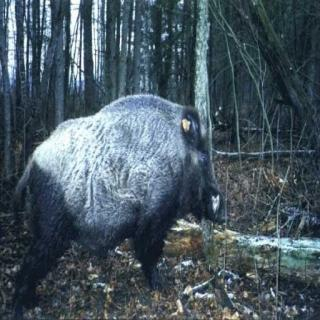Pig: (13, 93, 230, 315)
